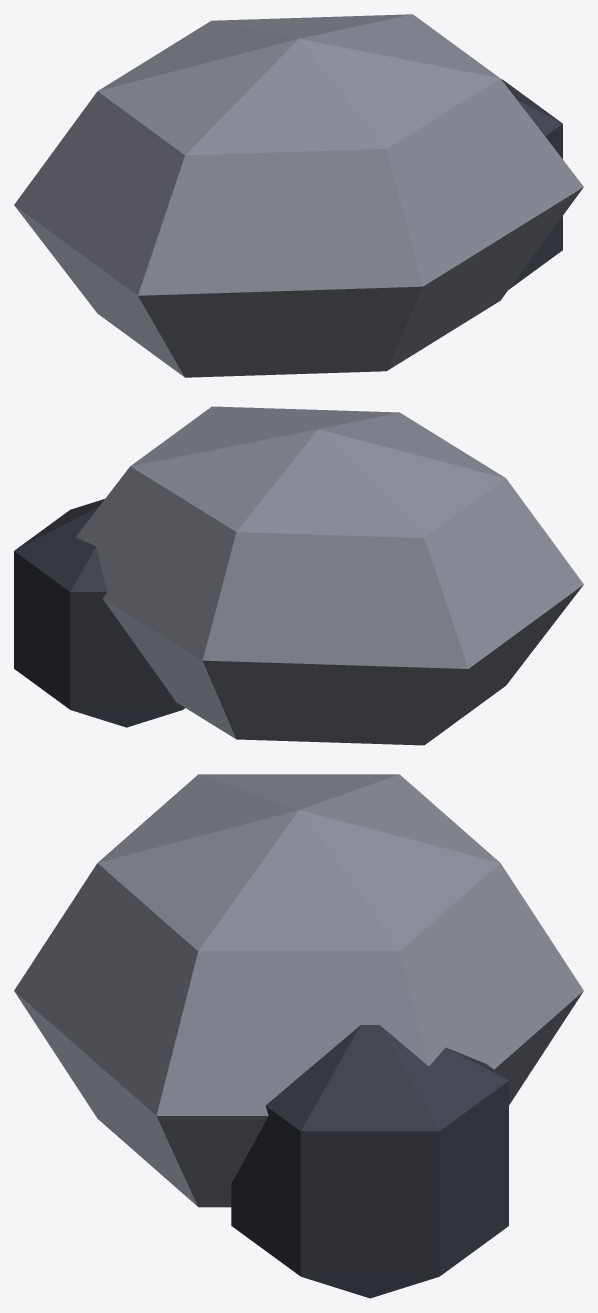
File: mdl_roca.fbx
The picture shows the model from 3 angles, top to bottom: view 1: azimuth 30°, elevation 25°; view 2: azimuth 150°, elevation 25°; view 3: azimuth 270°, elevation 25°; orthographic projection. The views are drawn at different scales.
Visible parts, largest first — view 1: mdl_roca; view 2: mdl_roca; view 3: mdl_roca.
Part boxes in pixels (x1,y1,x2,y2): mdl_roca: (14, 14, 583, 377); mdl_roca: (14, 406, 583, 745); mdl_roca: (14, 774, 583, 1298).
Bounding box in the file's own units: 364 × 242 × 320.
